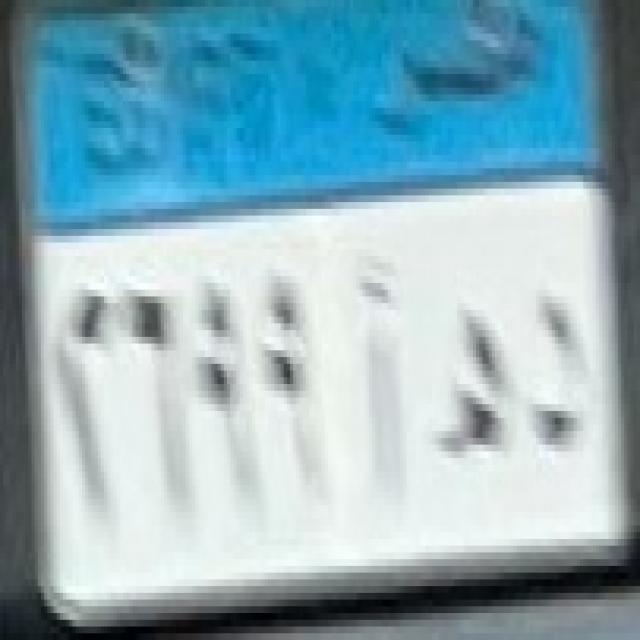2: (55, 272, 114, 542)
6: (120, 250, 183, 546)
9: (254, 255, 330, 540), (189, 253, 252, 548)
Heeh: (430, 264, 518, 476)
alef: (357, 248, 407, 522)
daal: (520, 266, 596, 465)
